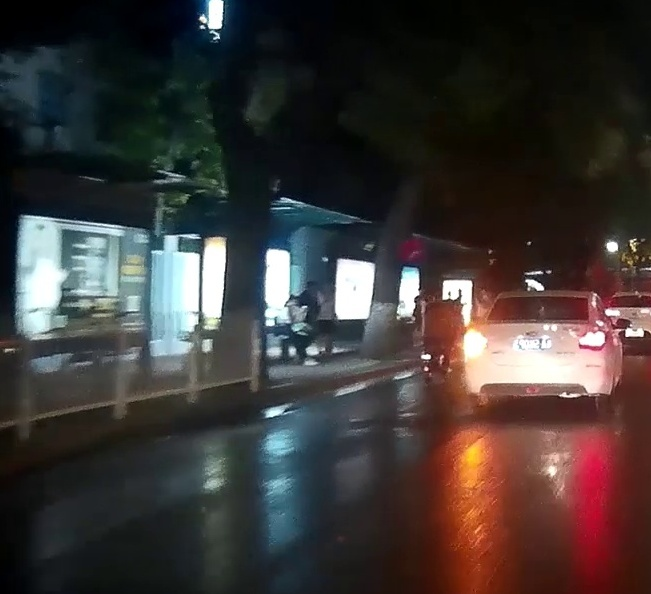L_light: (464, 331, 489, 351)
R_light: (579, 330, 608, 351)
T_light: (531, 297, 553, 300)
night-left: (462, 289, 613, 411)
